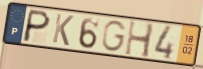4: (153, 24, 176, 62)
6: (78, 16, 101, 50)
G: (101, 19, 129, 53)
H: (123, 18, 157, 60)
K: (51, 12, 75, 48)
P: (21, 8, 53, 44)
